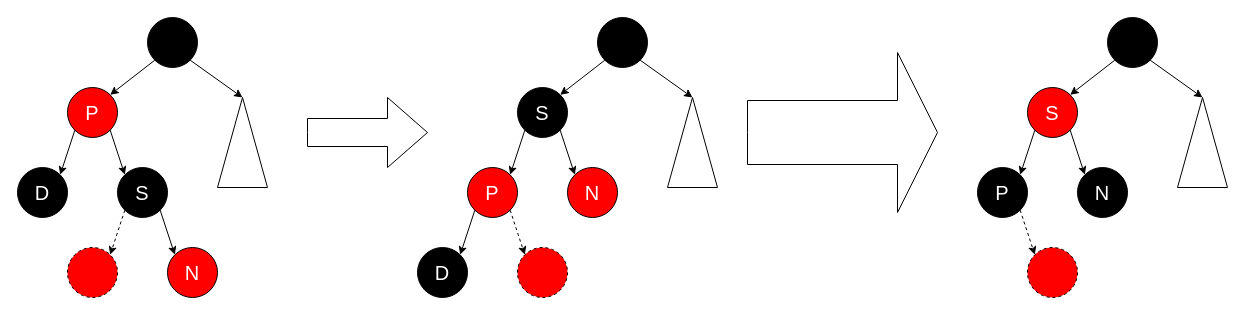
Image size: 1245x315. Some labels were removed from this diagram. Here are the shapes that lost their labels. From the top down, the centre of each, then its label:
At pixel 367 132: "P向左旋转".
At pixel 842 132: "P、N与S交换颜色 并删除D".
